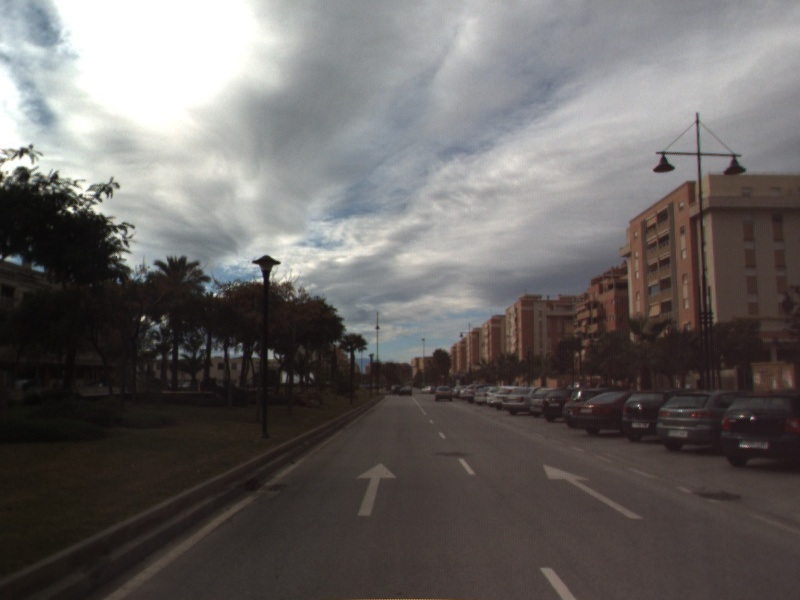STRAIGHT: (541, 462, 645, 521), (354, 460, 399, 518)
